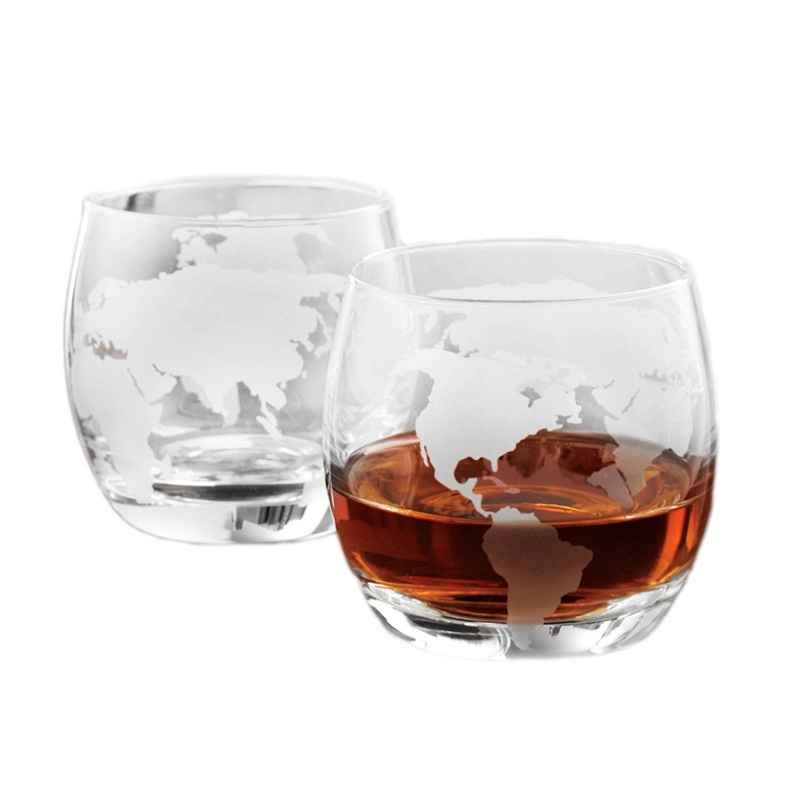whiskey: (348, 238, 715, 643)
